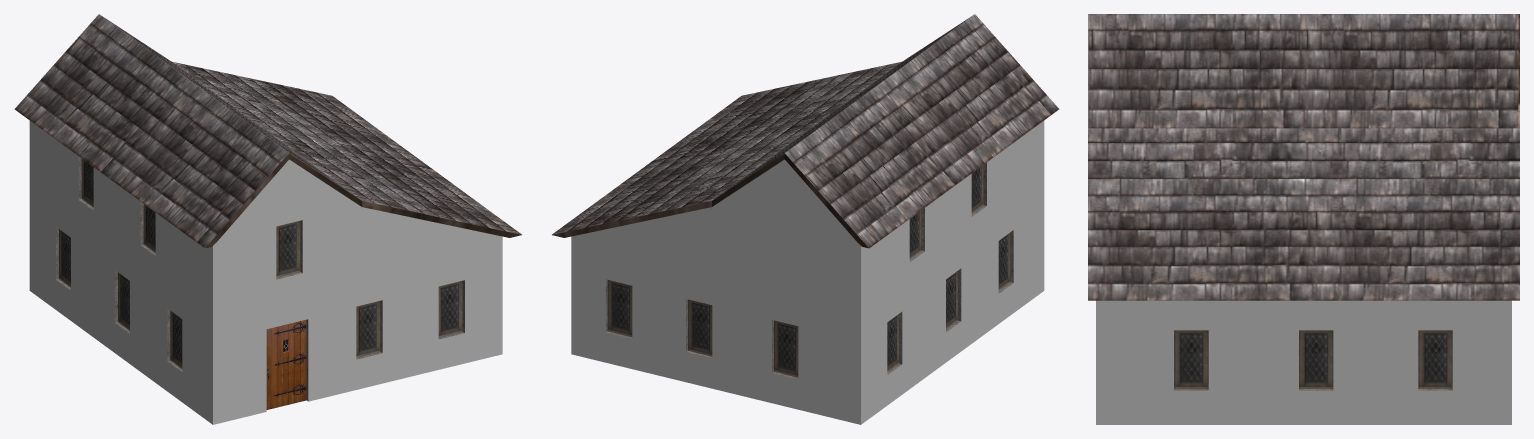
The model's file is Home3.fbx.
3 renders of one model, left to right at view 1: azimuth 30°, elevation 25°; view 2: azimuth 150°, elevation 25°; view 3: azimuth 270°, elevation 25°, orthographic. The views are drawn at different scales.
Visible parts, largest first — view 1: Home3; view 2: Home3; view 3: Home3.
Boxes of the visible parts, <box> form: Home3: <box>14,14,521,424</box>; Home3: <box>552,14,1059,424</box>; Home3: <box>1088,14,1519,424</box>.
Bounding box in the file's own units: 1080 × 832 × 1119.
